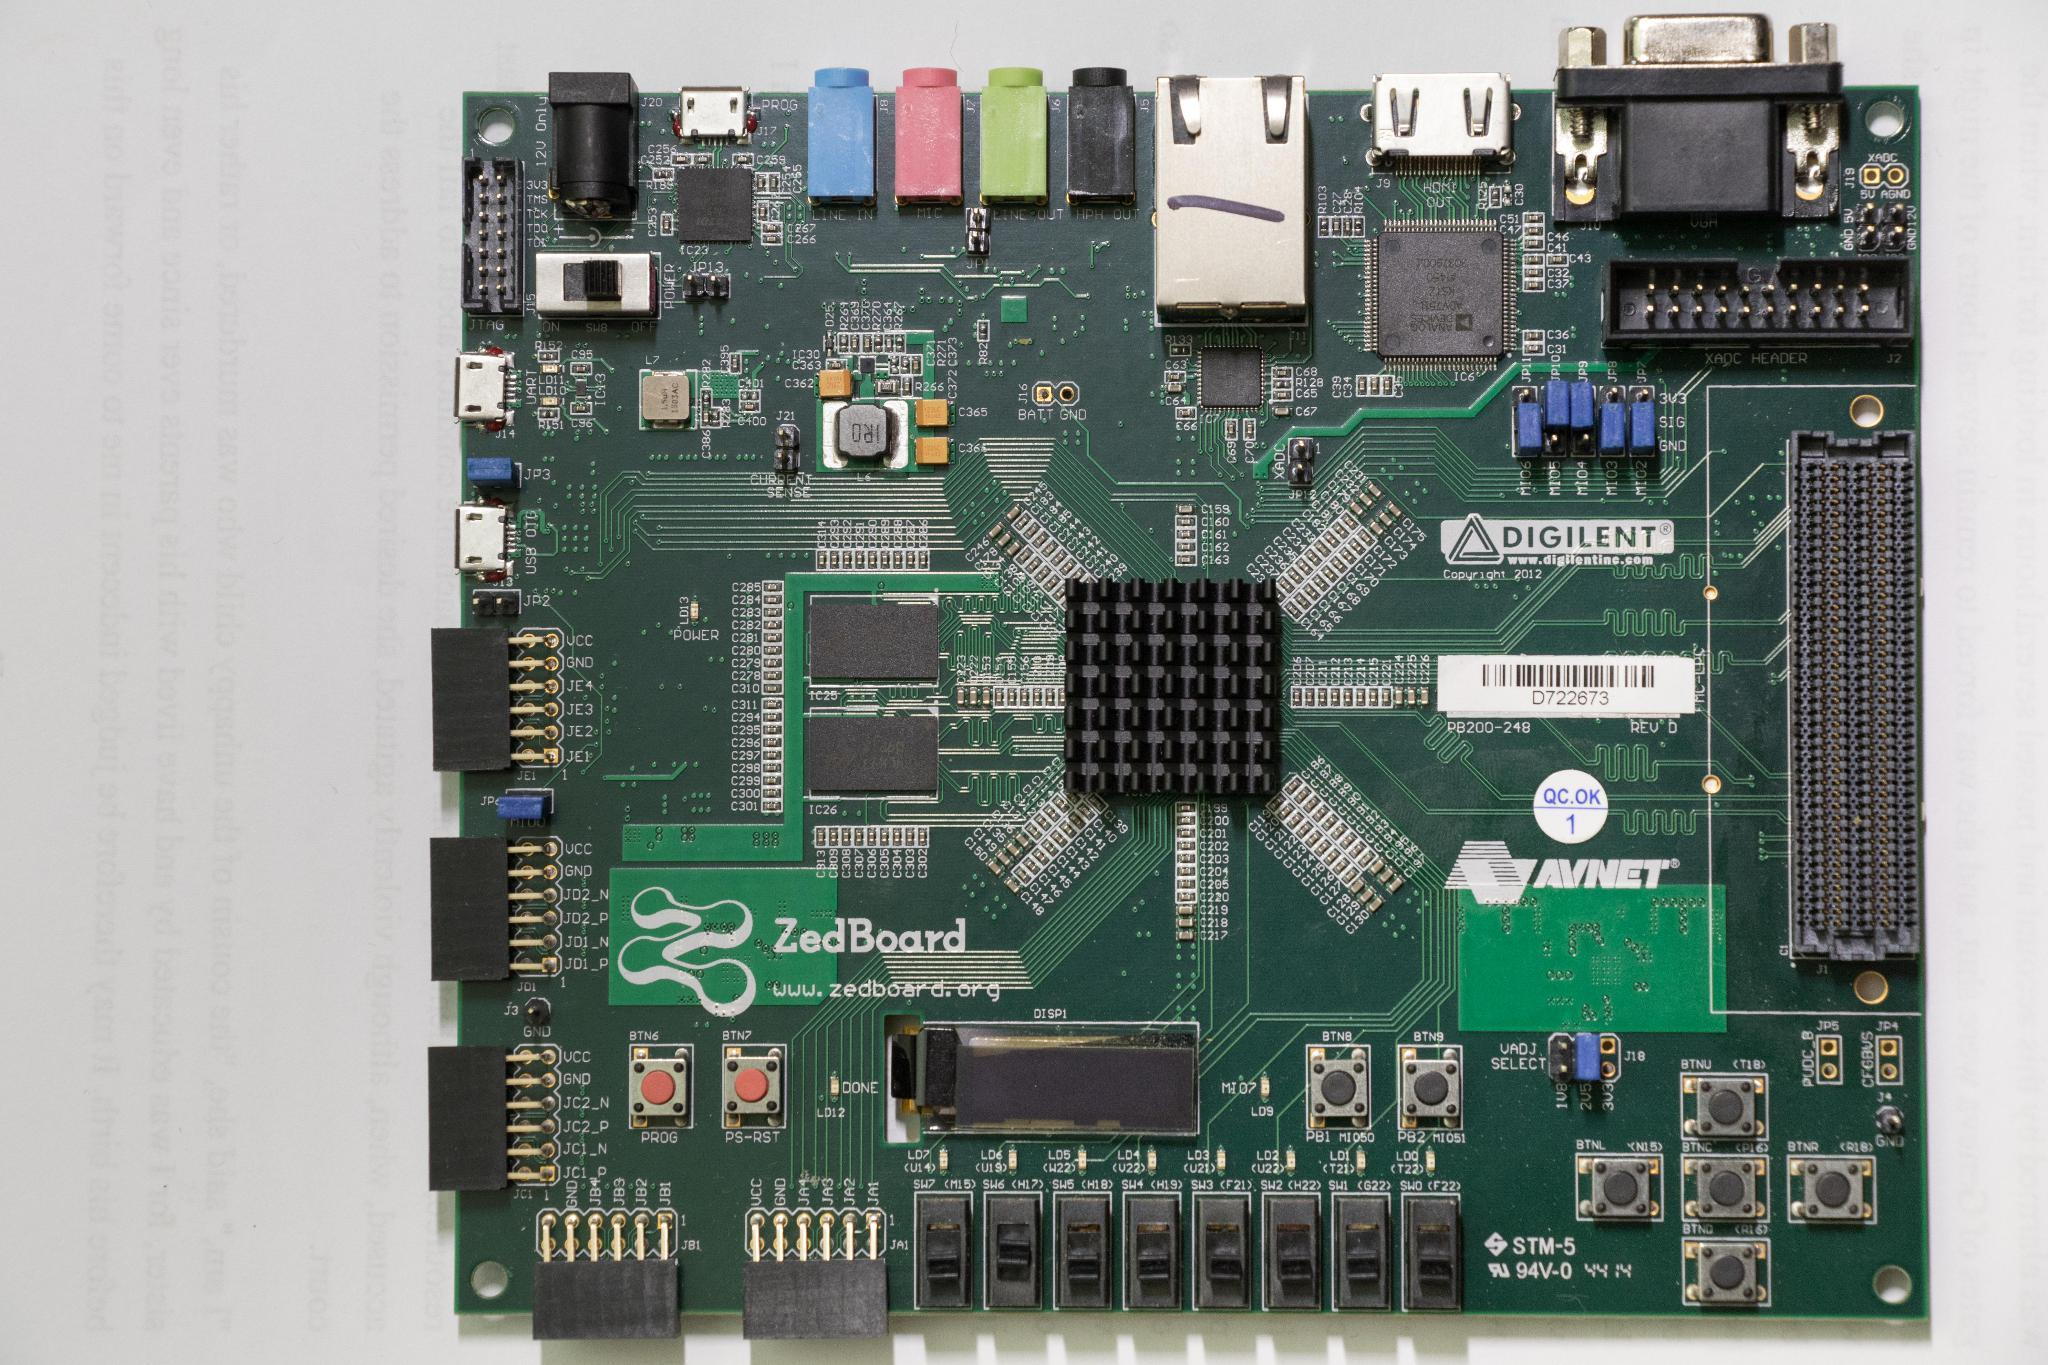Button: (1683, 1237, 1771, 1306), (1789, 1156, 1877, 1223), (1577, 1153, 1664, 1220), (1683, 1155, 1769, 1222), (1683, 1072, 1768, 1140), (725, 1044, 789, 1127), (630, 1044, 694, 1127), (1399, 1047, 1463, 1130), (1306, 1047, 1370, 1129)
Capacitor: (1341, 867, 1363, 887), (1329, 555, 1349, 574), (1284, 602, 1303, 622), (1268, 794, 1288, 814), (1058, 820, 1078, 839), (1341, 510, 1360, 532), (1268, 585, 1287, 606), (1086, 794, 1109, 810), (1366, 481, 1386, 500), (1063, 786, 1083, 804), (1078, 803, 1096, 823), (1026, 823, 1045, 842), (1349, 841, 1367, 861), (1279, 574, 1296, 596), (1389, 874, 1405, 896), (1026, 556, 1045, 574), (1303, 583, 1322, 602), (1284, 777, 1302, 795), (1052, 795, 1070, 814), (1313, 804, 1331, 823), (1287, 812, 1305, 830), (1340, 832, 1358, 850), (1040, 839, 1058, 858), (1325, 847, 1343, 865), (1023, 858, 1042, 876), (1042, 541, 1061, 558), (1034, 814, 1054, 830), (1014, 832, 1031, 852), (1357, 852, 1376, 868), (987, 859, 1003, 879), (1014, 867, 1031, 887), (732, 154, 755, 168), (1523, 238, 1546, 251), (1006, 504, 1023, 523), (1332, 523, 1351, 539), (988, 523, 1006, 539), (997, 532, 1016, 548), (1051, 548, 1067, 567), (1297, 559, 1316, 576), (1322, 565, 1338, 583), (1045, 574, 1061, 593), (1313, 574, 1329, 593), (1294, 593, 1311, 611), (1294, 788, 1313, 804), (1303, 797, 1322, 814), (1045, 804, 1061, 823), (1323, 814, 1341, 830), (1329, 823, 1348, 839), (1051, 830, 1067, 849), (1306, 830, 1323, 849), (1316, 839, 1332, 858), (1006, 842, 1025, 859), (1035, 849, 1052, 867), (1334, 858, 1352, 874), (1380, 868, 1396, 887), (1003, 876, 1020, 894), (1361, 529, 1376, 548), (981, 684, 993, 708), (729, 353, 743, 375), (761, 698, 783, 711), (1177, 903, 1198, 917), (1387, 503, 1404, 519), (1016, 513, 1032, 530), (1034, 532, 1051, 548), (1340, 548, 1357, 565), (1061, 558, 1078, 574), (1035, 565, 1052, 582), (1054, 583, 1070, 600), (1279, 803, 1296, 820), (1297, 823, 1314, 839), (997, 852, 1014, 868), (1369, 861, 1386, 877), (1360, 888, 1376, 905), (1369, 897, 1386, 914), (1523, 344, 1546, 356), (1023, 524, 1042, 539), (1352, 539, 1367, 558), (761, 684, 784, 696), (1006, 686, 1019, 708), (967, 686, 979, 708), (1343, 686, 1355, 708), (1032, 686, 1045, 708), (1303, 686, 1316, 708), (1329, 686, 1341, 708), (1019, 686, 1031, 708), (854, 826, 866, 849), (828, 826, 841, 849), (757, 200, 769, 222), (573, 363, 592, 376), (1176, 852, 1195, 865), (1177, 890, 1197, 903), (1370, 375, 1383, 396), (1383, 375, 1395, 396), (901, 376, 914, 398), (1176, 407, 1197, 419), (1226, 417, 1238, 439), (1244, 419, 1256, 440), (904, 548, 917, 570), (866, 550, 879, 571), (880, 550, 892, 571), (763, 620, 784, 632), (1317, 687, 1329, 708), (955, 687, 967, 708), (1367, 687, 1380, 708), (761, 711, 783, 724), (763, 724, 784, 736), (763, 763, 784, 775), (763, 775, 784, 788), (761, 800, 783, 812), (1177, 814, 1198, 826), (904, 826, 917, 847), (892, 826, 904, 847), (917, 826, 929, 847), (1176, 841, 1197, 853), (1176, 865, 1197, 877), (1176, 917, 1197, 929), (1177, 929, 1198, 941), (1523, 212, 1544, 224), (662, 215, 675, 236), (761, 222, 783, 235), (1524, 254, 1546, 267), (1547, 254, 1568, 267), (1524, 280, 1546, 292), (862, 332, 874, 353), (1351, 503, 1366, 519), (1370, 519, 1386, 536), (1006, 542, 1023, 558), (1316, 542, 1332, 558), (1019, 547, 1034, 564), (1306, 550, 1323, 565), (1288, 568, 1303, 585), (1063, 594, 1080, 609), (1070, 814, 1086, 830), (1351, 879, 1367, 894), (1360, 491, 1373, 509), (1325, 530, 1338, 548), (912, 353, 923, 376), (818, 548, 828, 571), (880, 826, 891, 849), (1523, 227, 1546, 238), (700, 408, 713, 428), (1176, 529, 1195, 541), (892, 550, 904, 570), (763, 606, 783, 619), (763, 644, 783, 657), (764, 657, 784, 669), (994, 686, 1006, 705), (1355, 689, 1367, 708), (1176, 801, 1195, 814), (1176, 877, 1195, 890), (1524, 331, 1544, 343), (1070, 568, 1086, 583), (1080, 576, 1095, 591), (1380, 510, 1393, 527), (1166, 372, 1188, 382), (1165, 382, 1186, 393), (830, 548, 841, 570), (918, 548, 929, 570), (856, 550, 866, 571), (763, 634, 784, 644), (1293, 686, 1303, 707), (1393, 686, 1404, 707), (1045, 687, 1055, 708), (1383, 689, 1393, 710), (761, 750, 783, 760), (1177, 829, 1198, 839), (842, 826, 853, 847), (868, 826, 879, 847), (816, 826, 827, 847), (672, 155, 693, 166), (769, 174, 780, 195), (1332, 216, 1343, 238), (1343, 216, 1354, 238), (761, 235, 783, 245), (885, 332, 895, 353), (764, 580, 783, 593), (764, 737, 783, 750), (1273, 367, 1293, 378), (1273, 392, 1293, 402), (573, 404, 592, 414), (1176, 516, 1195, 527), (1176, 556, 1195, 567), (1407, 689, 1418, 708), (757, 174, 767, 193), (850, 334, 860, 353), (827, 360, 848, 369), (1271, 407, 1293, 416), (1177, 504, 1195, 515), (1179, 542, 1197, 553), (764, 670, 783, 681), (1421, 686, 1430, 707), (764, 788, 783, 798), (742, 404, 761, 413), (844, 550, 853, 570), (763, 596, 783, 605), (1358, 376, 1367, 395), (1058, 689, 1067, 707), (1524, 270, 1546, 277), (696, 155, 713, 165), (681, 245, 687, 257)
Connector: (1791, 430, 1925, 960), (1553, 14, 1844, 222), (1153, 75, 1310, 326), (1602, 257, 1914, 347), (428, 1042, 560, 1190), (534, 1207, 681, 1338), (429, 628, 563, 769), (429, 836, 562, 980), (745, 1208, 888, 1338), (1369, 72, 1517, 174), (550, 72, 636, 219), (461, 160, 525, 317), (982, 69, 1054, 206), (894, 67, 962, 203), (1067, 67, 1134, 206), (809, 67, 876, 203), (454, 346, 518, 428), (675, 85, 757, 146), (455, 498, 513, 576), (1855, 203, 1909, 251), (1877, 1036, 1906, 1086), (1817, 1034, 1844, 1085), (1549, 1031, 1574, 1082), (1859, 165, 1909, 190), (774, 424, 799, 472), (1032, 381, 1080, 407), (474, 590, 521, 615), (967, 209, 991, 256), (682, 274, 729, 299), (1288, 439, 1313, 484), (1600, 1033, 1622, 1082), (1877, 1106, 1906, 1135), (1542, 430, 1568, 459), (524, 996, 550, 1025), (1570, 433, 1597, 459), (1512, 385, 1539, 405), (1597, 385, 1626, 404), (1628, 384, 1657, 401)
Diode: (824, 331, 837, 356)
Electrolytic Capacitor: (819, 369, 854, 398), (917, 437, 949, 465), (917, 401, 950, 427)
IC: (1366, 219, 1517, 372), (810, 708, 938, 798), (812, 596, 939, 684), (1198, 344, 1262, 408), (860, 356, 876, 373), (576, 379, 588, 398)
Inductor: (822, 401, 911, 469), (641, 372, 697, 430)
Jumper: (467, 459, 521, 489), (1510, 404, 1541, 456), (1597, 404, 1628, 456), (1631, 402, 1658, 456), (499, 791, 554, 817), (1573, 1031, 1600, 1082), (1544, 381, 1570, 430), (1571, 382, 1596, 433)
Led: (1355, 1150, 1367, 1172), (831, 1076, 842, 1098), (1259, 1076, 1271, 1095), (1008, 1149, 1019, 1170), (1078, 1150, 1089, 1170), (1427, 1152, 1437, 1172), (541, 398, 563, 407), (1148, 1150, 1157, 1172), (1217, 1150, 1226, 1172), (691, 602, 700, 622), (939, 1149, 949, 1168), (1287, 1150, 1296, 1170), (539, 366, 560, 373)
Pads: (1503, 184, 1514, 209), (889, 355, 900, 376), (740, 390, 761, 401)
Resistor Network: (876, 379, 898, 395), (653, 168, 675, 180), (1319, 216, 1331, 238), (978, 320, 990, 341), (1491, 186, 1501, 209), (538, 408, 557, 420), (1171, 346, 1192, 356), (539, 350, 560, 361), (1354, 216, 1364, 238), (1273, 379, 1293, 390), (702, 388, 713, 408), (839, 334, 850, 353), (895, 334, 906, 353), (901, 355, 911, 375), (874, 334, 883, 353), (713, 408, 720, 427)
Switch: (536, 253, 659, 318), (1265, 1191, 1323, 1310), (1054, 1193, 1112, 1312), (1405, 1194, 1463, 1312), (1334, 1194, 1392, 1310), (987, 1191, 1043, 1309), (1125, 1193, 1182, 1310), (1194, 1196, 1250, 1312), (917, 1191, 971, 1309)
